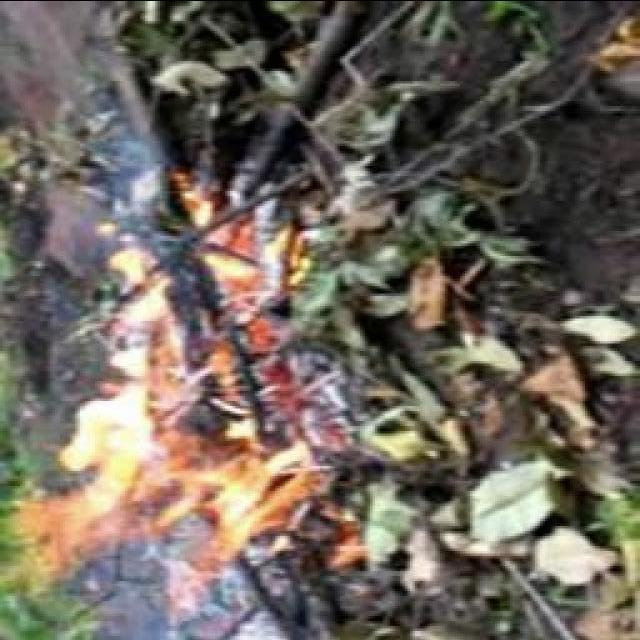Fire: (24, 183, 304, 602)
